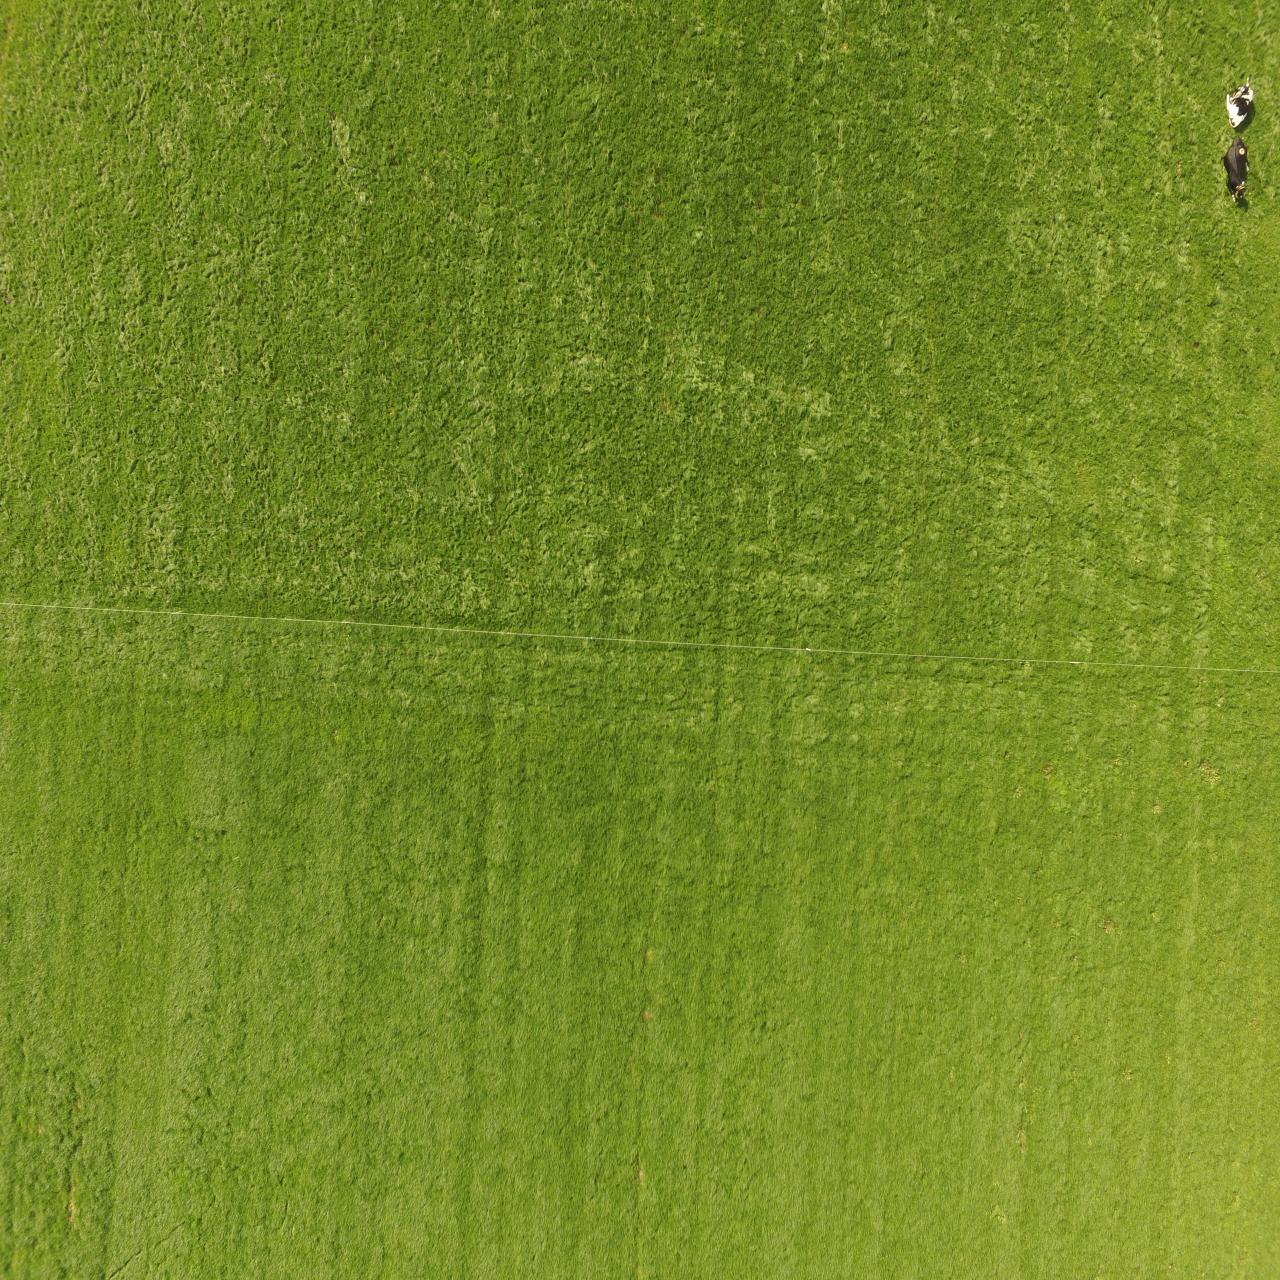cow: (1224, 136, 1250, 204), (1225, 80, 1255, 130)
